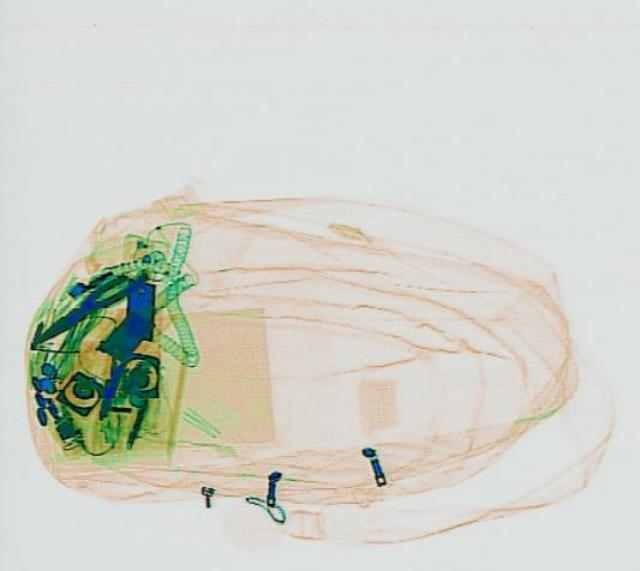Pliers: (24, 267, 138, 350)
